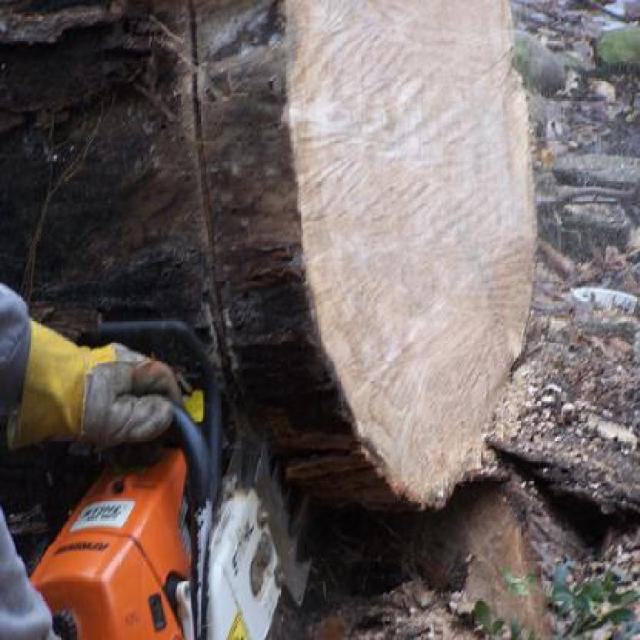Chainsaw: (28, 324, 322, 638)
